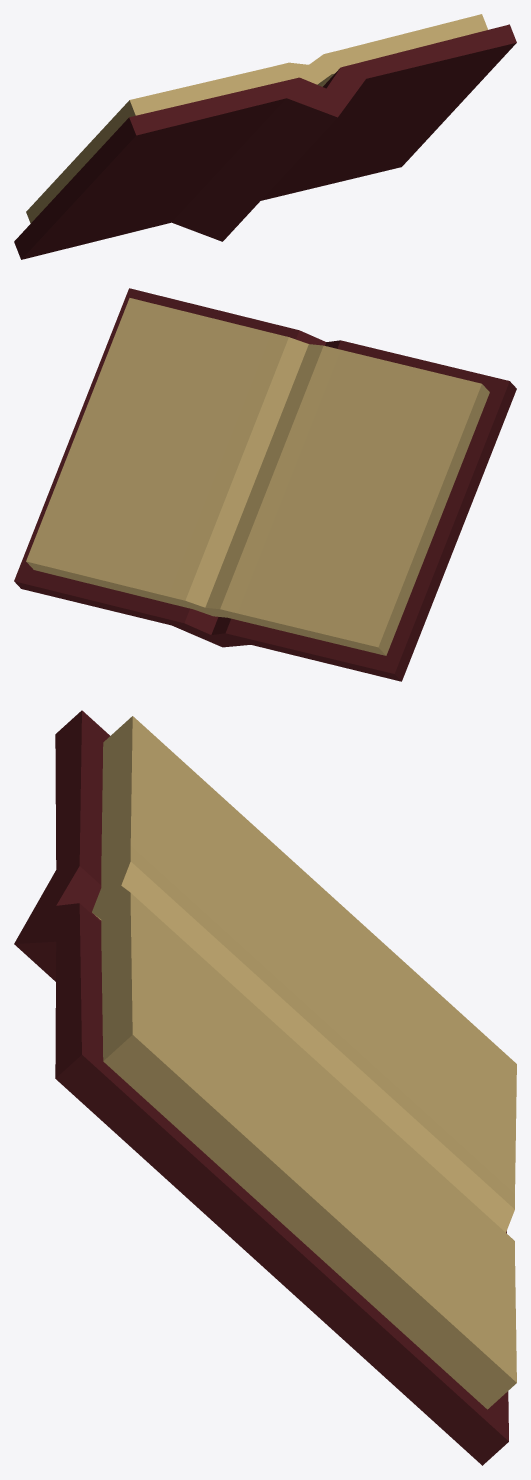
Rendered from book_opened_full.glb.
3 renders of one model, top to bottom at view 1: azimuth 30°, elevation 25°; view 2: azimuth 150°, elevation 25°; view 3: azimuth 270°, elevation 25°, orthographic. The views are drawn at different scales.
Parts seen in each view (by area): view 1: Cube.001; view 2: Cube.001; view 3: Cube.001.
Boxes of the visible parts, x1=… form: Cube.001: x1=14, y1=14, x2=516, y2=259; Cube.001: x1=14, y1=288, x2=516, y2=681; Cube.001: x1=14, y1=710, x2=516, y2=1465.
Bounding box in the file's own units: 0.9027 × 0.557 × 0.557.
